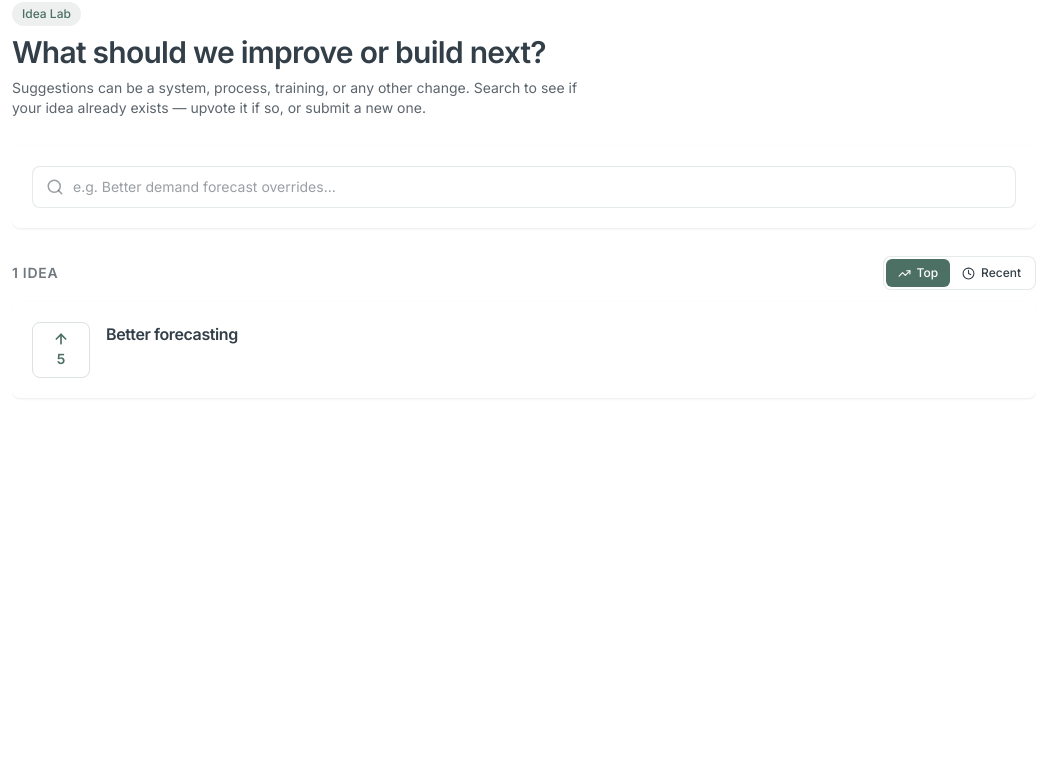
Test: Ideas › C10 — exact title match shows amber duplicate warning
In the field with placeholder "e.g. Better demand forecast overrides…": (524, 187) [32,166,1016,208], type "Better forecasting"
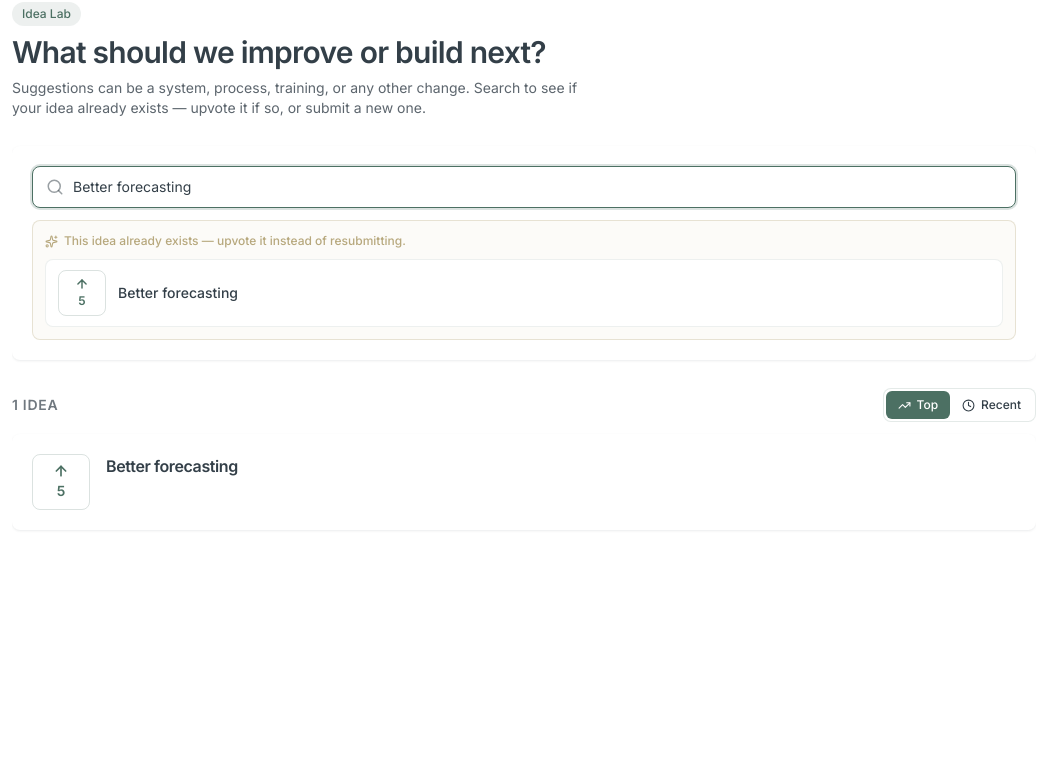
Expected: the text "upvote it instead of resubmitting" is shown, [64,233,406,248]
